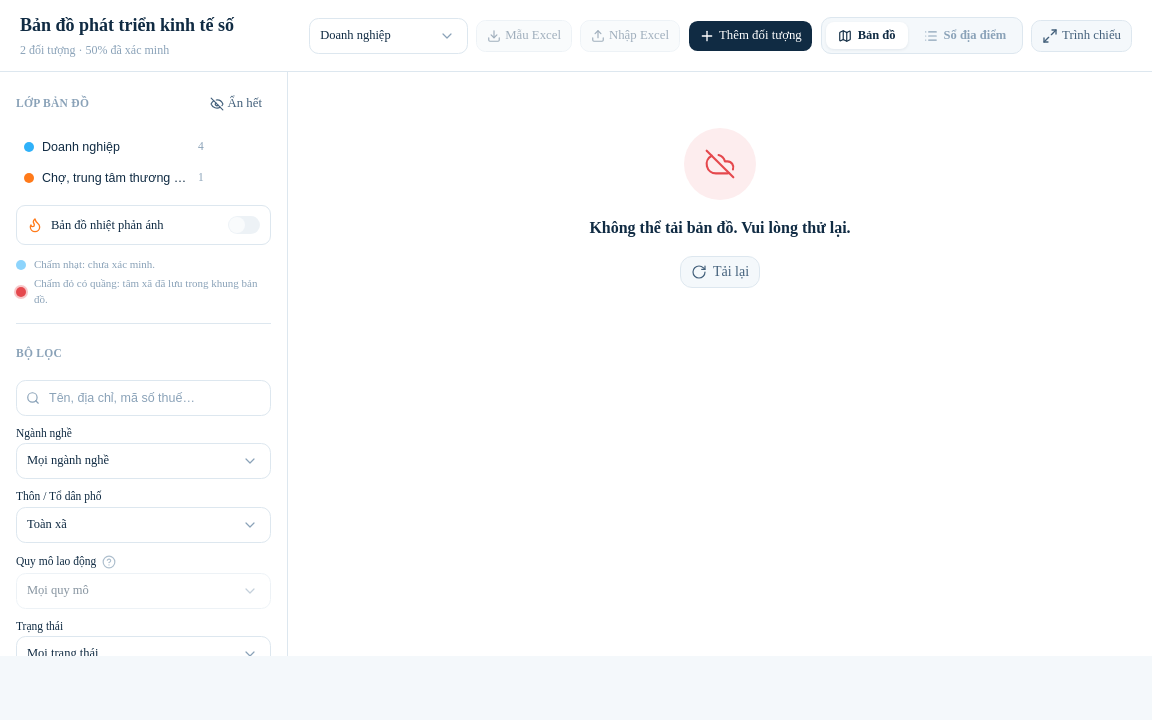
Test: Sổ địa điểm › empty, no filter: the prototype's card and sentences
Step 1. Click the button "Sổ địa điểm" → [965, 36], box 912,22 -> 1018,49
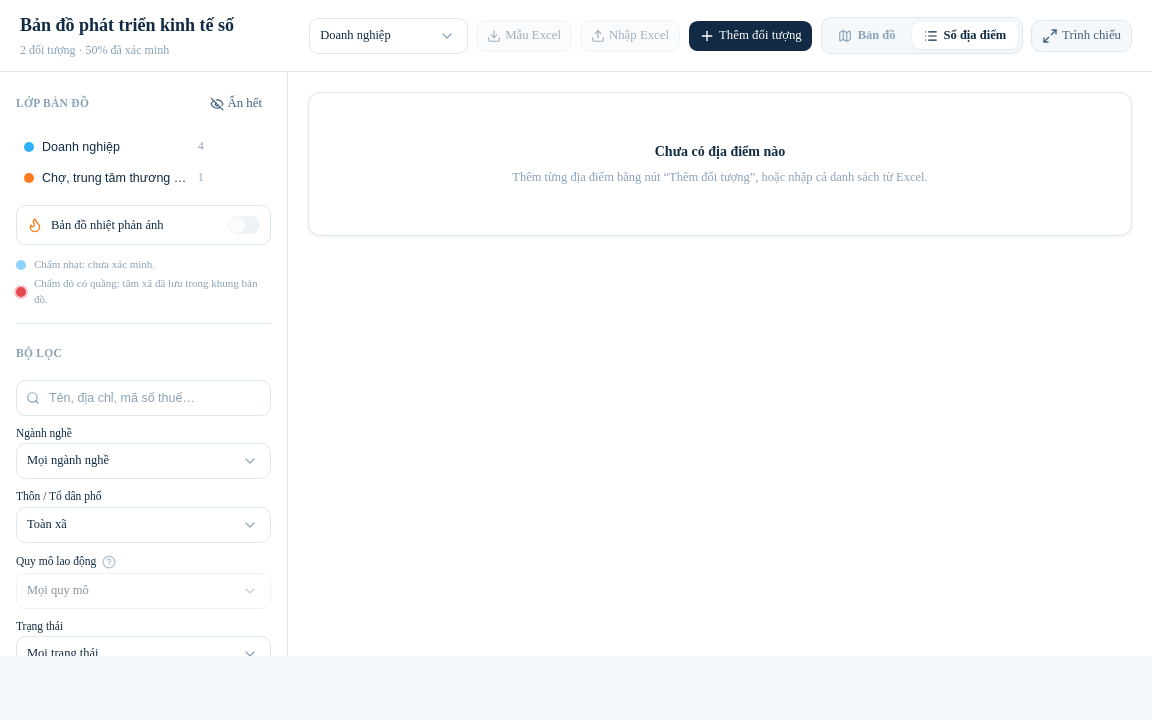
expect the text "Chưa có địa điểm nào" is shown: met, box 655,144 -> 785,159
expect the text "Thêm từng địa điểm bằng nút “Thêm đối tượng”, hoặc nhập cả danh sách từ Excel." is shown: met, box 512,170 -> 928,184
